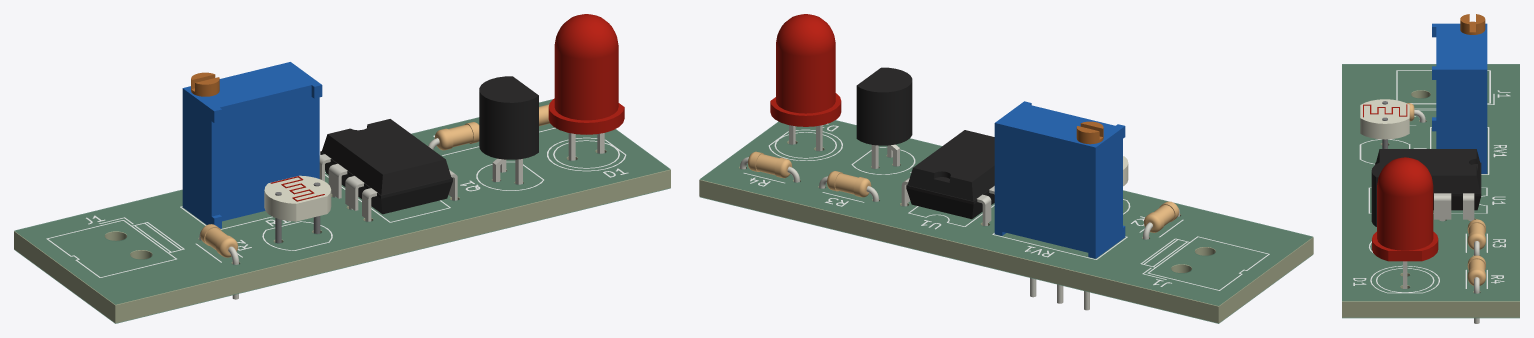
Rendered from machbatdensangtoi.glb.
3 renders of one model, left to right at view 1: azimuth 30°, elevation 25°; view 2: azimuth 150°, elevation 25°; view 3: azimuth 270°, elevation 25°, orthographic. The views are drawn at different scales.
Parts seen in each view (by area): view 1: =>[0:1:1:17], =>[0:1:1:15], =>[0:1:1:9], =>[0:1:1:13], =>[0:1:1:5], =>[0:1:1:11], =>[0:1:1:3], =>[0:1:1:14], =>[0:1:1:7] (×2), =>[0:1:1:16]; view 2: =>[0:1:1:17], =>[0:1:1:15], =>[0:1:1:9], =>[0:1:1:5], =>[0:1:1:13], =>[0:1:1:11], =>[0:1:1:7] (×3), =>[0:1:1:14], =>[0:1:1:16]; view 3: =>[0:1:1:17], =>[0:1:1:15], =>[0:1:1:9], =>[0:1:1:5], =>[0:1:1:13], =>[0:1:1:3], =>[0:1:1:14], =>[0:1:1:7] (×3), =>[0:1:1:11], =>[0:1:1:16].
Part boxes in pixels (left/top/right/bottom): =>[0:1:1:17]: left=14, top=100, right=670, bottom=323; =>[0:1:1:15]: left=14, top=99, right=670, bottom=304; =>[0:1:1:9]: left=182, top=62, right=322, bottom=228; =>[0:1:1:13]: left=319, top=119, right=457, bottom=221; =>[0:1:1:5]: left=548, top=14, right=624, bottom=160; =>[0:1:1:11]: left=479, top=76, right=538, bottom=184; =>[0:1:1:3]: left=264, top=175, right=331, bottom=243; =>[0:1:1:14]: left=46, top=127, right=628, bottom=277; =>[0:1:1:7] (×2): left=199, top=122, right=479, bottom=299; =>[0:1:1:16]: left=14, top=188, right=670, bottom=323; =>[0:1:1:17]: left=699, top=121, right=1313, bottom=323; =>[0:1:1:15]: left=699, top=120, right=1312, bottom=305; =>[0:1:1:9]: left=994, top=101, right=1125, bottom=310; =>[0:1:1:5]: left=770, top=14, right=841, bottom=151; =>[0:1:1:13]: left=901, top=130, right=994, bottom=225; =>[0:1:1:11]: left=856, top=67, right=912, bottom=168; =>[0:1:1:7] (×3): left=740, top=151, right=1179, bottom=239; =>[0:1:1:14]: left=743, top=123, right=1269, bottom=290; =>[0:1:1:16]: left=700, top=197, right=1313, bottom=323; =>[0:1:1:17]: left=1342, top=65, right=1519, bottom=317; =>[0:1:1:15]: left=1342, top=64, right=1519, bottom=301; =>[0:1:1:9]: left=1432, top=14, right=1487, bottom=173; =>[0:1:1:5]: left=1372, top=157, right=1438, bottom=288; =>[0:1:1:13]: left=1375, top=149, right=1481, bottom=221; =>[0:1:1:3]: left=1360, top=99, right=1409, bottom=148; =>[0:1:1:14]: left=1353, top=70, right=1510, bottom=293; =>[0:1:1:7] (×3): left=1406, top=103, right=1485, bottom=323; =>[0:1:1:11]: left=1371, top=159, right=1394, bottom=226; =>[0:1:1:16]: left=1342, top=317, right=1519, bottom=318.
Bounding box in the file's own units: 0.049 × 0.0176 × 0.0155.
